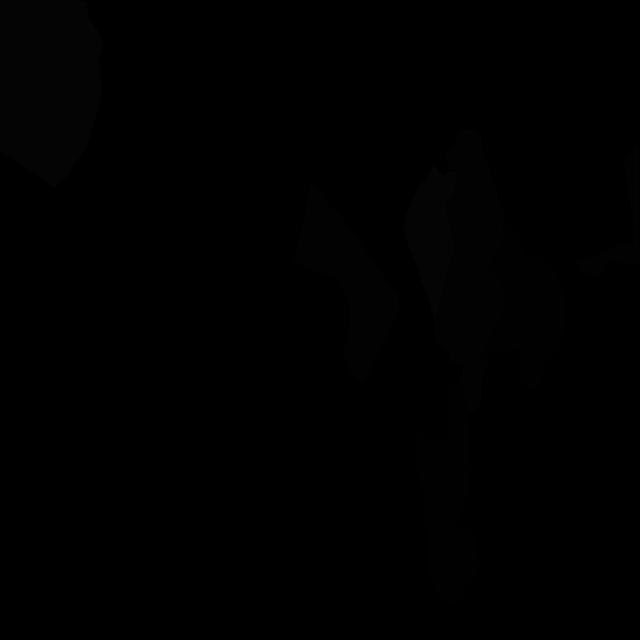cardboard: (294, 183, 399, 384), (435, 129, 506, 413), (574, 144, 640, 276)
rigid_plastic: (482, 218, 566, 390), (416, 383, 478, 605)
soft_plastic: (404, 164, 458, 323)
